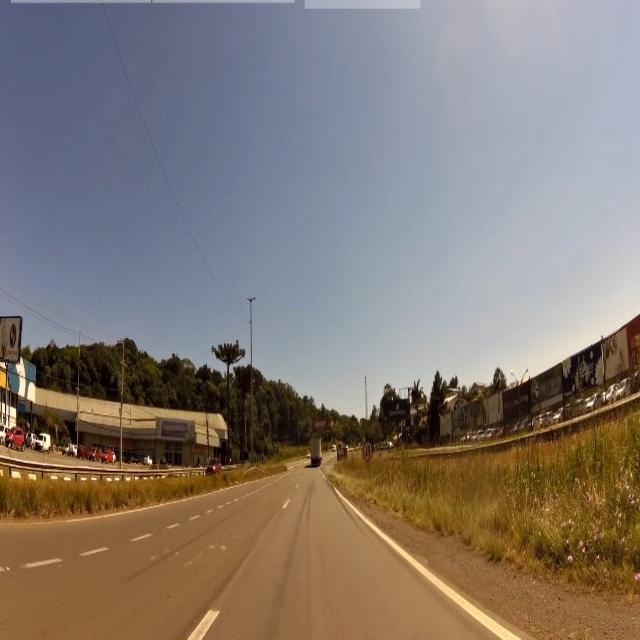R-28: (363, 440, 373, 460)
